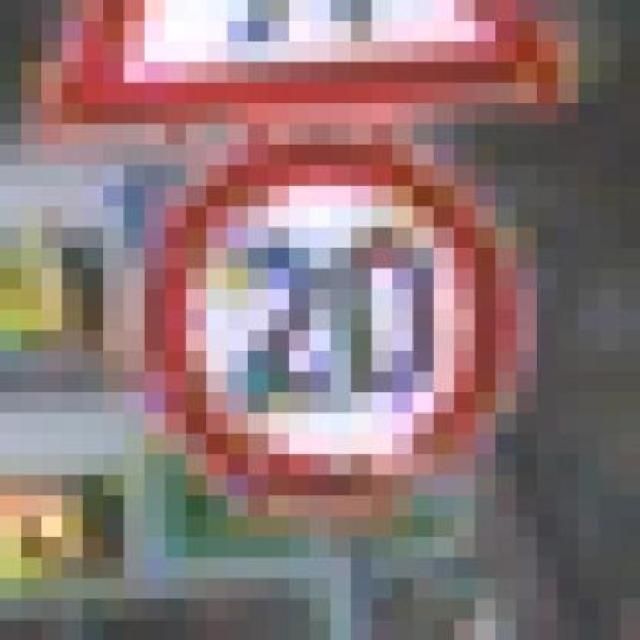forb_speed_over_20: (140, 135, 528, 504)
